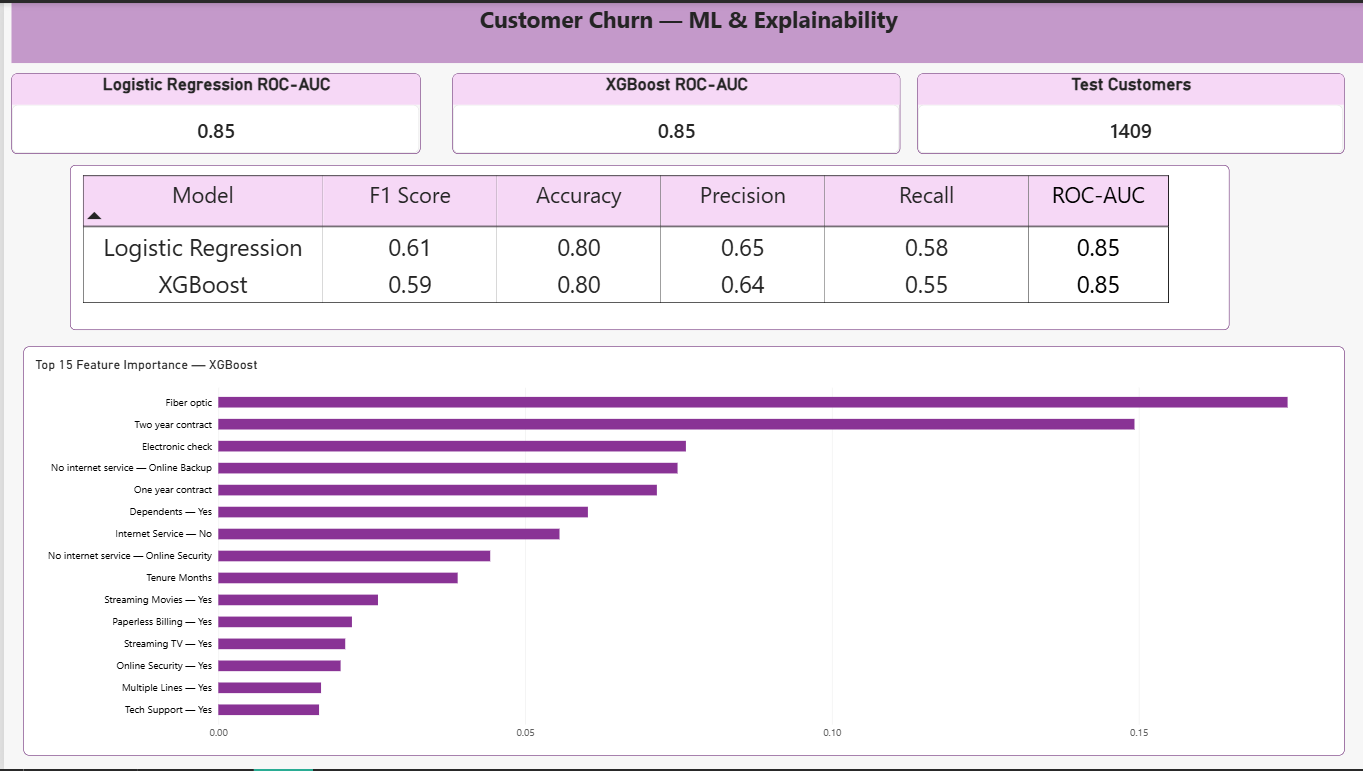

The dashboard page shown, as its layout file describes it:
{"tool":"powerbi","page":{"name":"Page 2","canvas":[1920,1080],"ordinal":1},"visuals":[{"type":"textbox","box":[10.6,0,1909.8,84.6],"z":0},{"type":"cardVisual","title":"Logistic Regression ROC-AUC","fields":{"Data":["customer_churn_clean.Logistic ROC-AUC"]},"box":[11.4,99.9,576.9,113.6],"z":1000},{"type":"cardVisual","title":"XGBoost ROC-AUC","fields":{"Data":["customer_churn_clean.XGBoost ROC-AUC"]},"box":[631.4,99.9,631.4,113.6],"z":2000},{"type":"cardVisual","title":"Test Customers","fields":{"Data":["customer_churn_clean.Test Customers"]},"box":[1287.8,99.9,601.9,113.6],"z":3000},{"type":"tableEx","fields":{"Values":["Model Performance.Model","Model Performance.F1 Score","Model Performance.Accuracy","Model Performance.Precision","Model Performance.Recall","Model Performance.ROC-AUC"]},"box":[93.1,229.4,1634.8,232.6],"z":4000},{"type":"clusteredBarChart","title":"Top 15 Feature Importance — XGBoost","fields":{"Category":["Feature Importance.Feature Name"],"Y":["Sum(Feature Importance.Importance)"]},"box":[27.3,483.8,1862.5,576.9],"z":4001}]}

Visuals, with their boxes in screenshot pixels (x1, y1, x2, y2), scaled from the page's 1920x1080 canvas onto the 1363x771 screenshot:
textbox: x1=8 y1=0 x2=1362 y2=60
"Logistic Regression ROC-AUC" cardVisual: x1=8 y1=71 x2=418 y2=152
"XGBoost ROC-AUC" cardVisual: x1=448 y1=71 x2=896 y2=152
"Test Customers" cardVisual: x1=914 y1=71 x2=1341 y2=152
tableEx - Model Performance.Model x Model Performance.F1 Score: x1=66 y1=164 x2=1227 y2=330
"Top 15 Feature Importance — XGBoost" clusteredBarChart: x1=19 y1=345 x2=1342 y2=757
